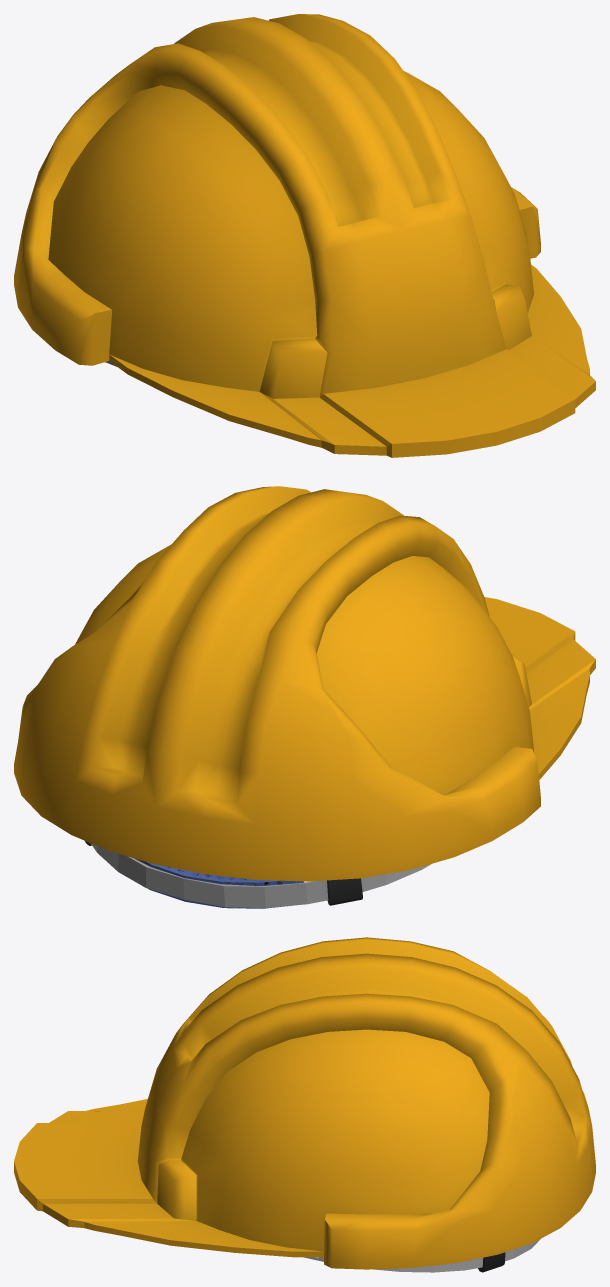
The model's file is construction hat.fbx.
3 views of the same model, one above another, from view 1: azimuth 30°, elevation 25°; view 2: azimuth 150°, elevation 25°; view 3: azimuth 270°, elevation 25° (orthographic). The views are drawn at different scales.
Visible parts, largest first — view 1: hard_hat; view 2: hard_hat; view 3: hard_hat.
Boxes of the visible parts, x1=… form: hard_hat: x1=14, y1=14, x2=595, y2=457; hard_hat: x1=14, y1=486, x2=595, y2=908; hard_hat: x1=14, y1=937, x2=595, y2=1272.
Bounding box in the file's own units: 28.68 × 18.25 × 36.42.
